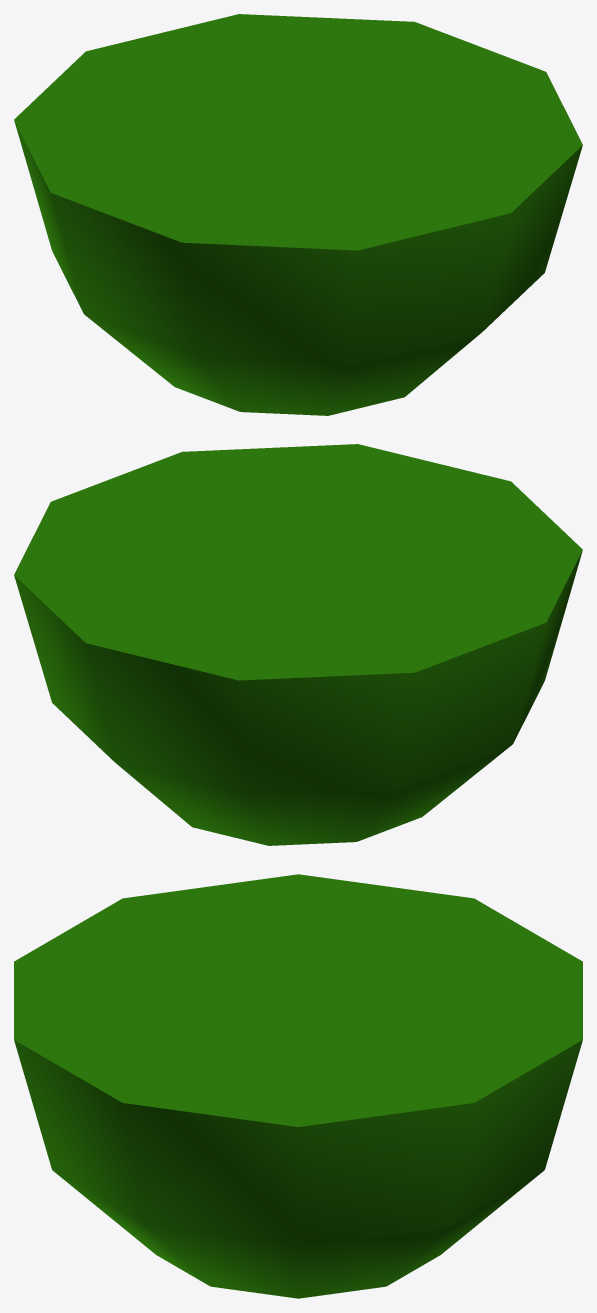
File: green.dae
The picture shows the model from 3 angles, top to bottom: view 1: azimuth 30°, elevation 25°; view 2: azimuth 150°, elevation 25°; view 3: azimuth 270°, elevation 25°; orthographic projection. The views are drawn at different scales.
Parts seen in each view (by area): view 1: Regroup08; view 2: Regroup08; view 3: Regroup08.
Boxes of the visible parts, box(x1,y1,x2,y2) form: Regroup08: box(14, 14, 582, 415); Regroup08: box(14, 444, 582, 845); Regroup08: box(14, 874, 582, 1298).
Size of the model in its own units: 1.8 by 0.9 by 1.71.
